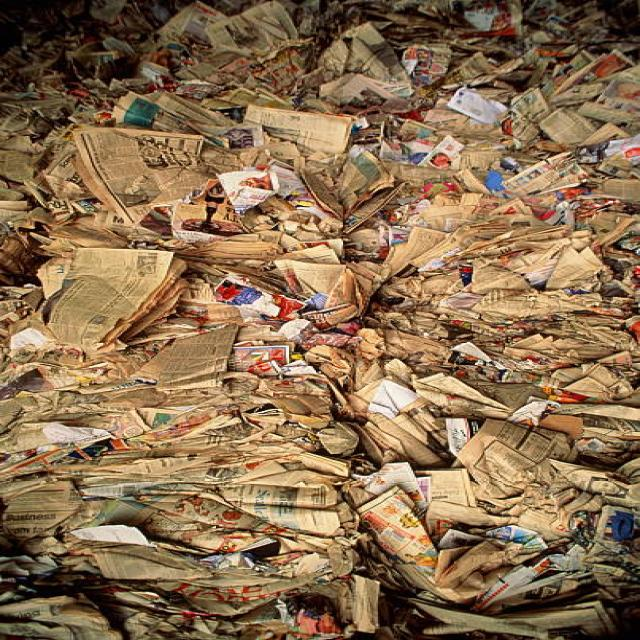electronic: (41, 247, 175, 350), (72, 125, 210, 224), (128, 324, 240, 389), (242, 104, 354, 154), (214, 168, 278, 214), (445, 87, 508, 124), (68, 524, 152, 547)
